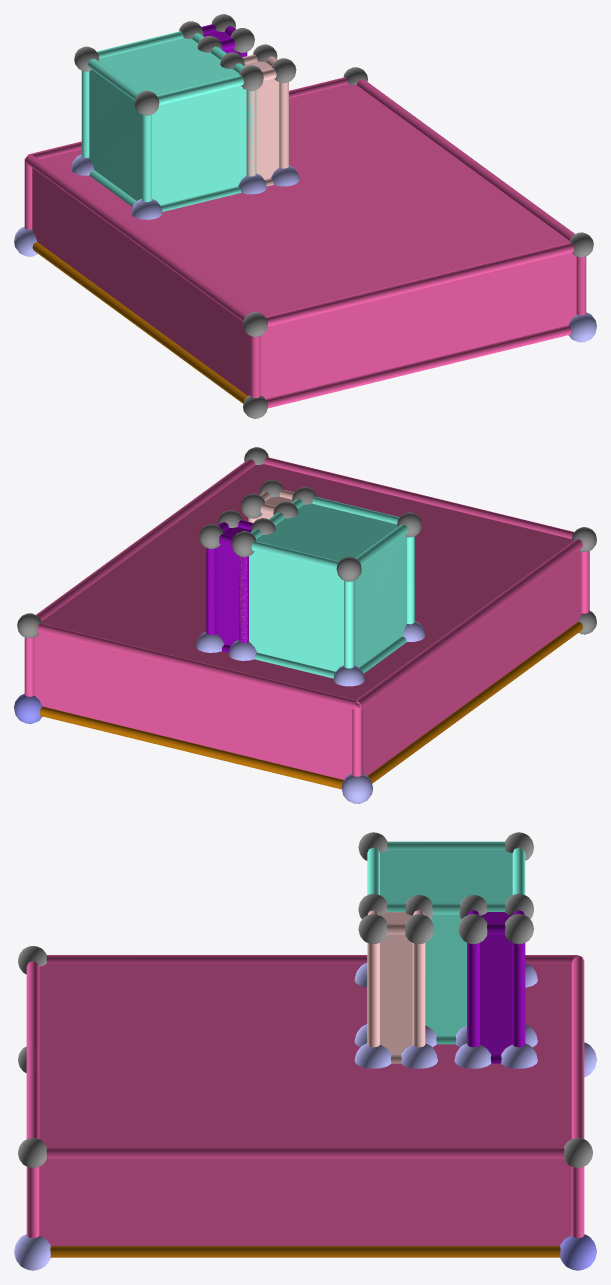
Rendered from res_10300.glb.
3 views of the same model, one above another, from view 1: azimuth 30°, elevation 25°; view 2: azimuth 150°, elevation 25°; view 3: azimuth 270°, elevation 25° (orthographic). The views are drawn at different scales.
Parts seen in each view (by area): view 1: imagetostl_mesh30; view 2: imagetostl_mesh30; view 3: imagetostl_mesh30.
Boxes of the visible parts, left/top/right/bottom form: imagetostl_mesh30: left=14, top=14, right=596, bottom=418; imagetostl_mesh30: left=14, top=447, right=596, bottom=803; imagetostl_mesh30: left=14, top=832, right=596, bottom=1270.
Bounding box in the file's own units: 21.68 × 12.76 × 25.68.
